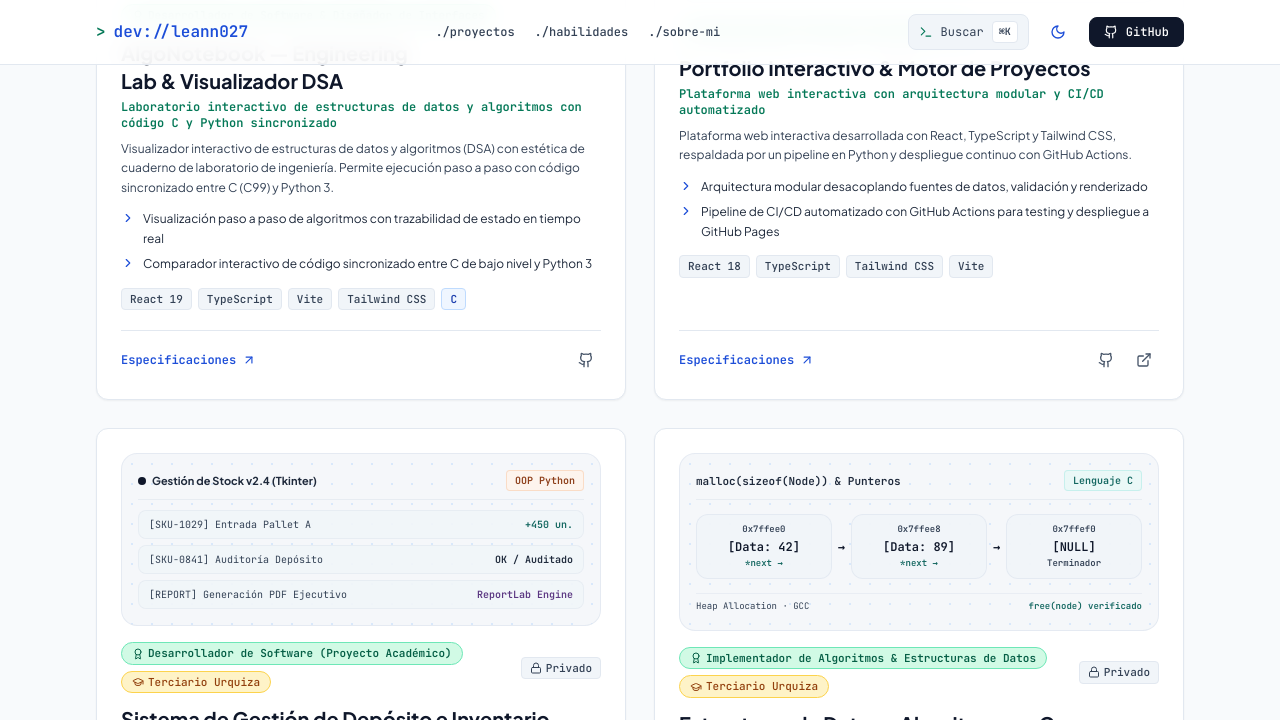
Test case: Interactive Portfolio UI (Pure Visualization) › resiliently handles rapid project modal switching and preserves tabpanel a11y IDs
The image size is (1280, 720).
(page scrolled)
Open first project
Step 1. Click the button with test id "btn-details-portfolio-hub" → (747,360), box [679, 352, 814, 368]
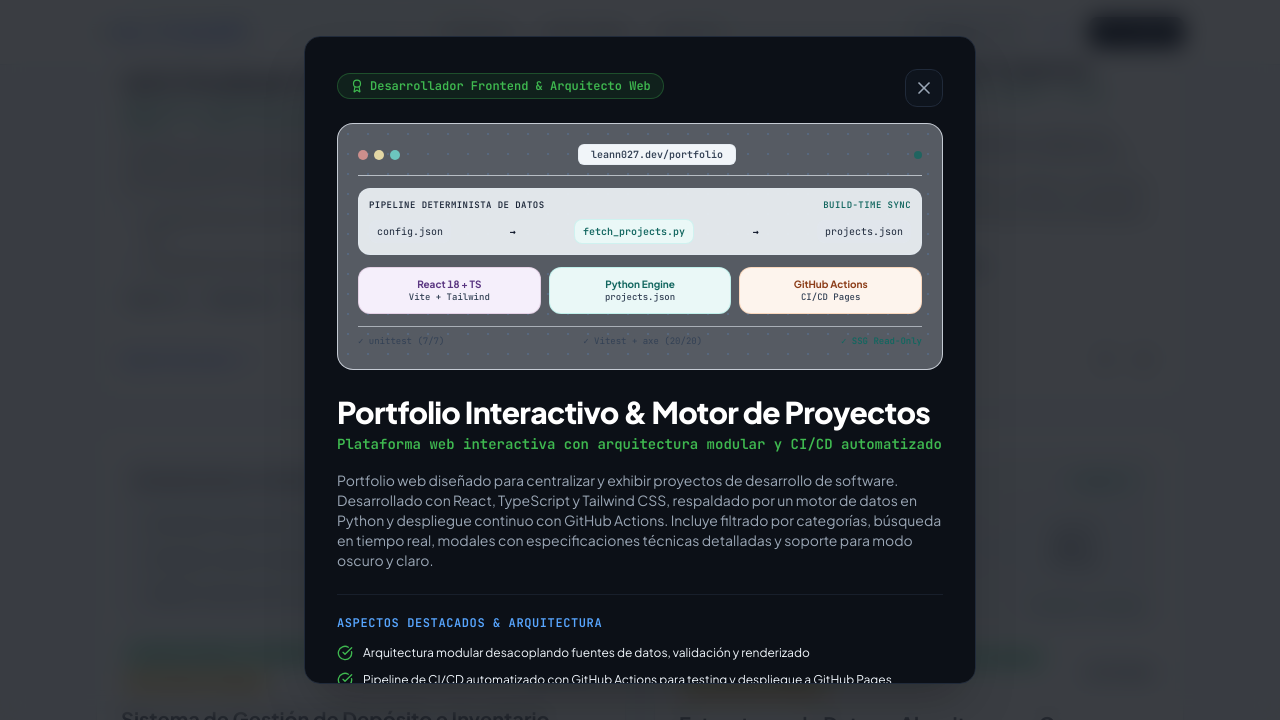
Result: the dialog is shown
Result: the heading "Portfolio Interactivo & Motor de Proyectos" is shown at [337, 394, 943, 430]
Close with escape
Step 2. Press Escape
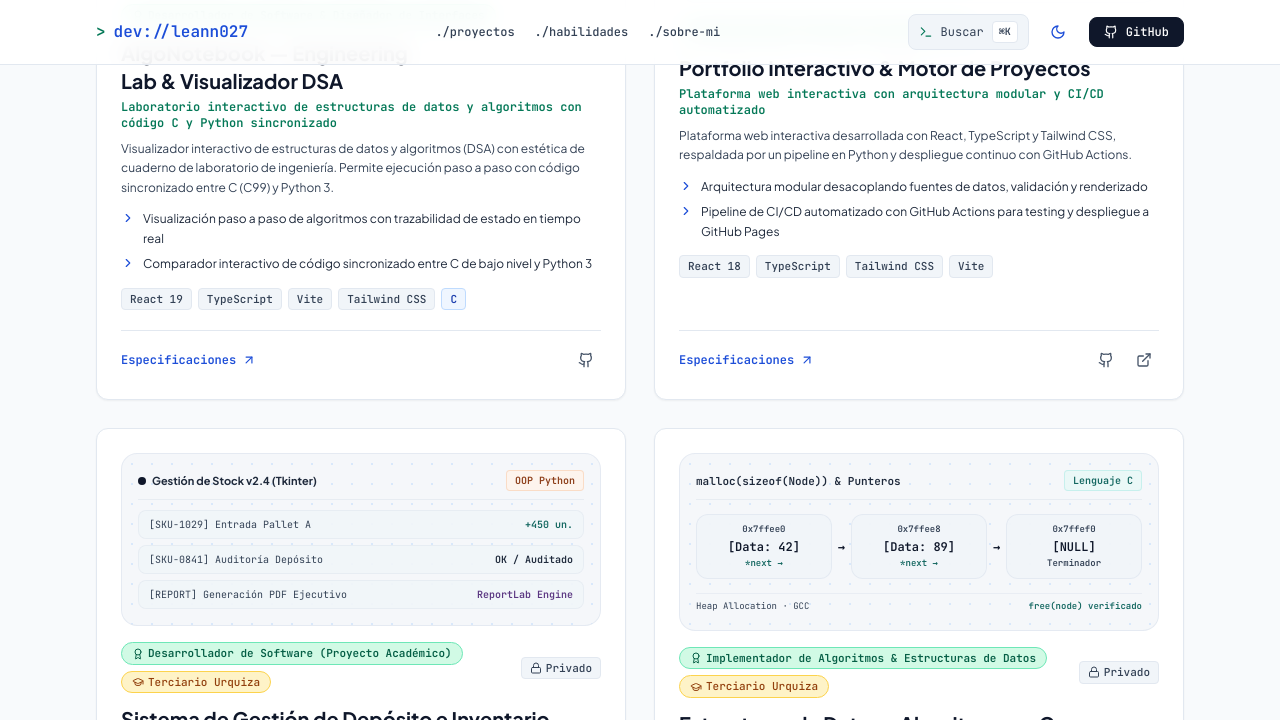
Immediately open second project
Step 3. Click the button with test id "btn-details-algo-notebook" → (189,360), box [121, 352, 256, 368]
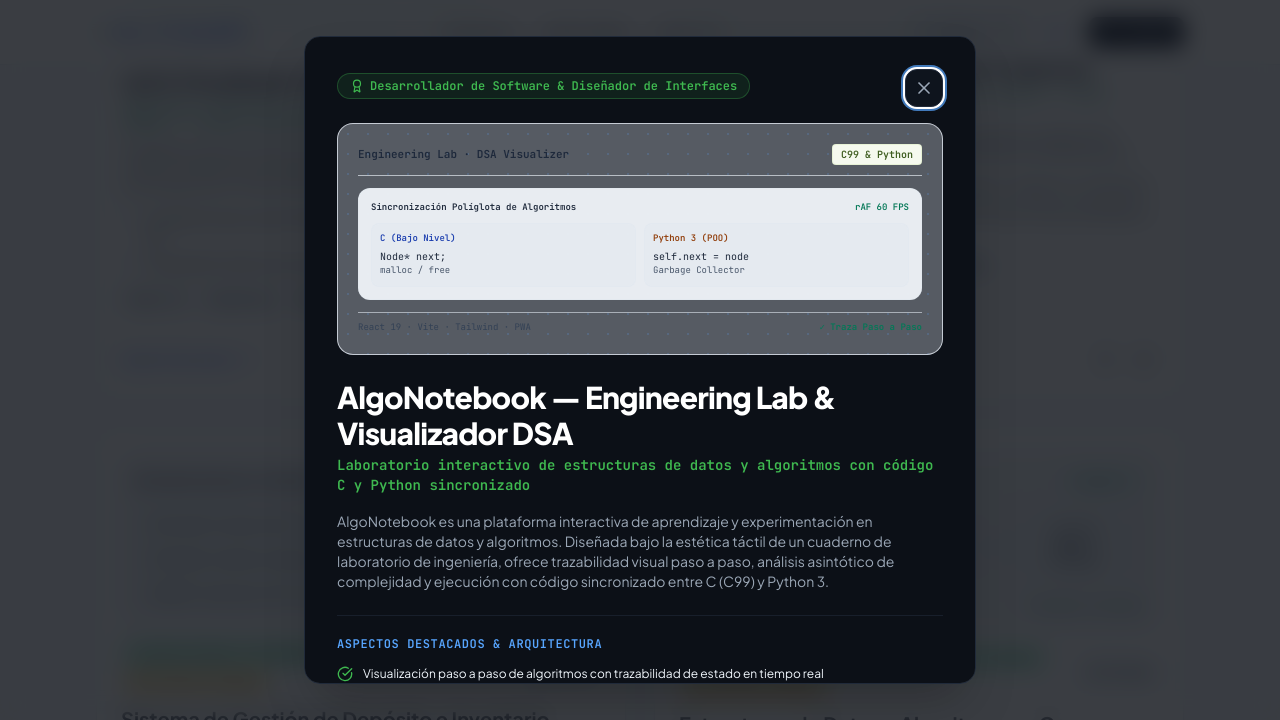
Result: the dialog is shown
Result: the heading "AlgoNotebook — Engineering Lab & Visualizador DSA" is shown at [337, 378, 836, 452]
